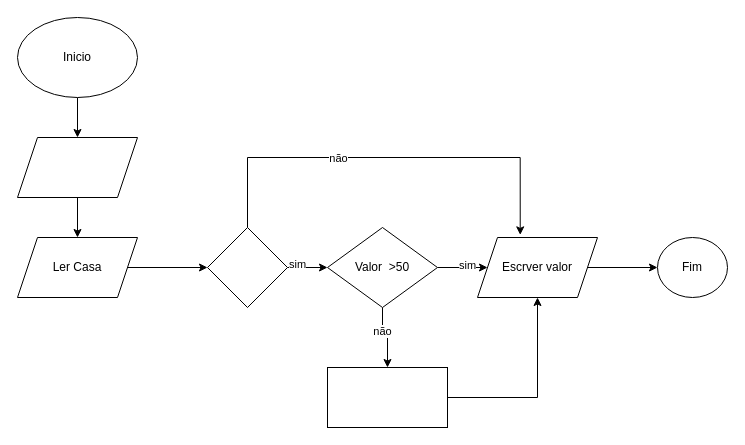
Some shapes in this 745 by 445 pixel diagram are drawn without their labels. Here are the shapes that lost their labels. From the top down, the centre of each, then its label:
[77,167]: Ler valor
[247,267]: casa 's'
[387,397]: Valor=Valor+5
